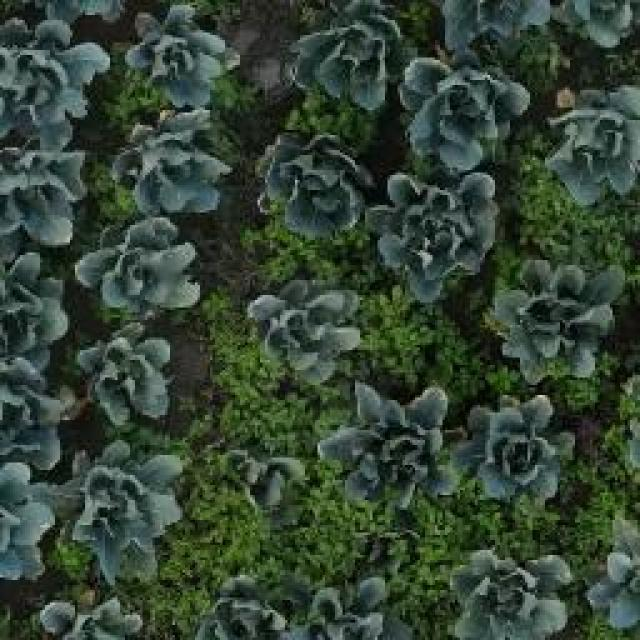cabbage: (49, 449, 183, 585), (367, 167, 501, 300), (496, 256, 624, 386), (401, 51, 533, 173), (320, 381, 446, 508), (451, 395, 575, 511), (249, 129, 371, 243), (72, 212, 205, 314), (121, 1, 242, 111), (112, 108, 234, 217), (287, 0, 404, 112), (0, 14, 112, 130), (77, 321, 187, 438), (544, 75, 640, 208), (244, 283, 364, 387), (0, 124, 82, 247), (454, 556, 563, 634), (221, 446, 297, 512)
